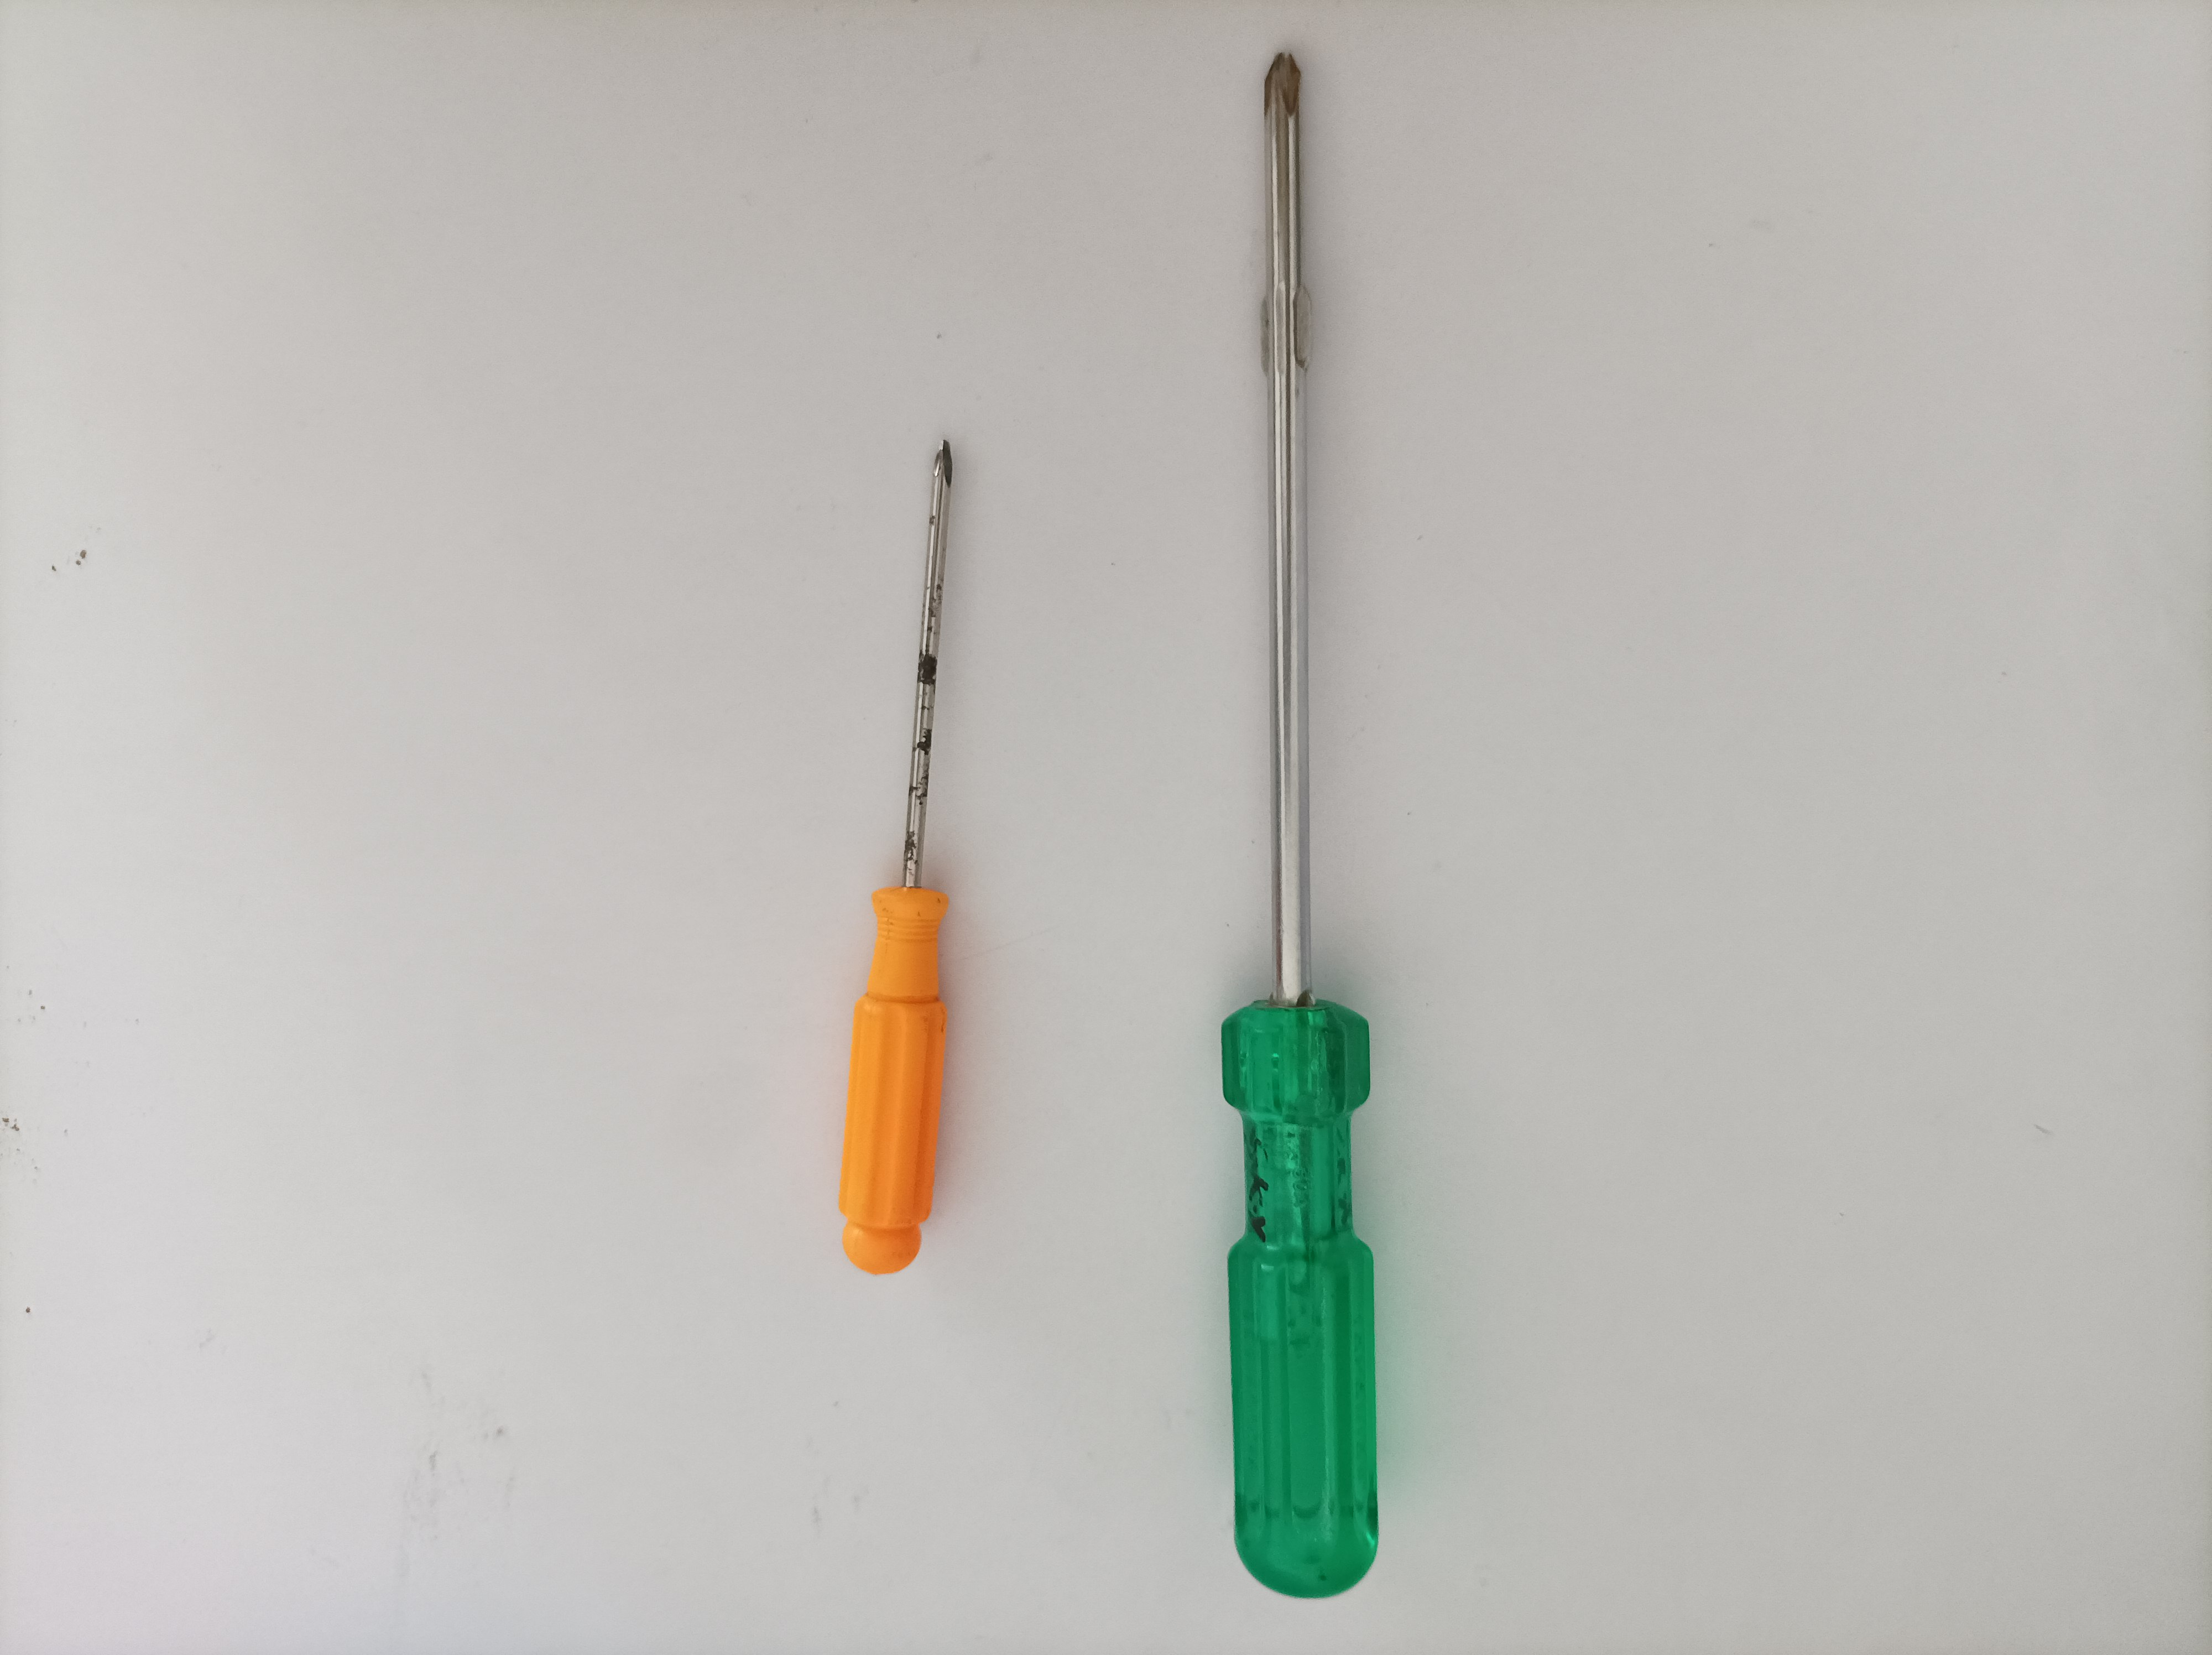screwdriver: (1215, 42, 1390, 1601), (829, 424, 971, 1281)
